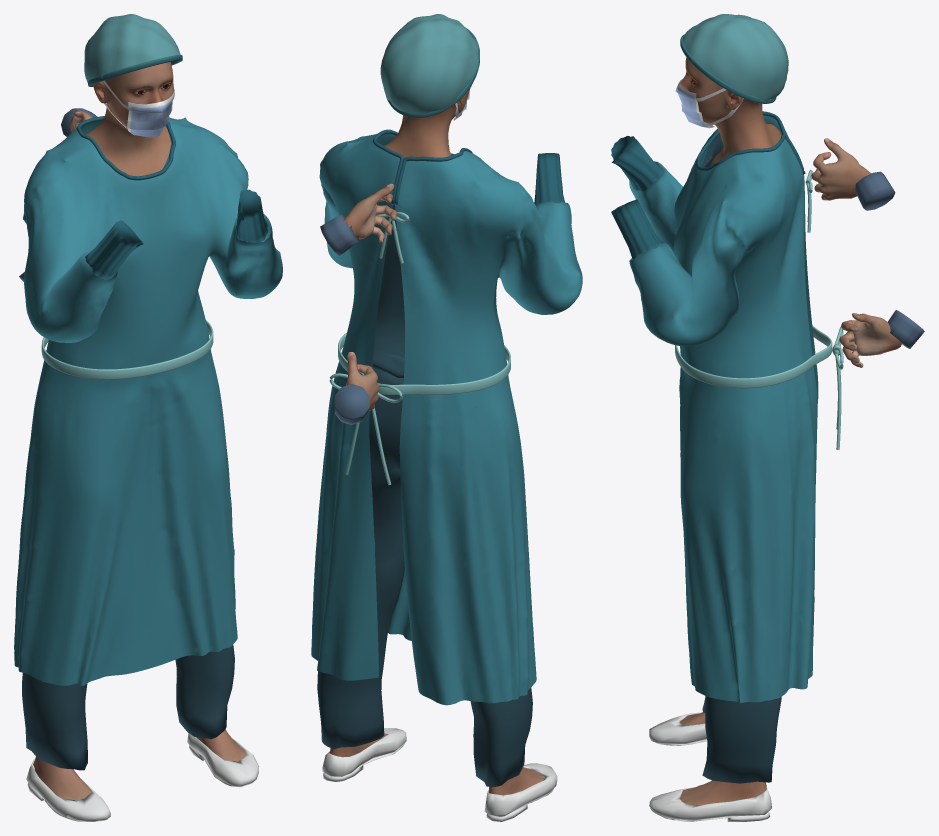
File: paso-4.glb
3 views of the same model, side by side, from view 1: azimuth 30°, elevation 25°; view 2: azimuth 150°, elevation 25°; view 3: azimuth 270°, elevation 25° (orthographic).
Visible parts, largest first — view 1: gown, Human.toigo_wool_pants-static, Human-static, surgical-cap, Human.toigo_flats-static, tie-waist-belt, cuff-R, Human.joepal_medical_mouth_protection-static, cuff-L, neck-binding, cap-elastic; view 2: gown, Human.toigo_wool_pants-static, surgical-cap, Human.toigo_flats-static, Human-static, Human.joepal_crude_t-shirt_female-static, circulator-hands, tie-waist-belt, cuff-R, circulator-cuff-R, circulator-cuff-L, neck-binding (+1 smaller); view 3: gown, surgical-cap, Human-static, Human.toigo_wool_pants-static, circulator-hands, Human.toigo_flats-static, tie-waist-belt, cuff-R, cuff-L, circulator-cuff-L, Human.joepal_medical_mouth_protection-static, neck-binding (+2 smaller).
Boxes of the visible parts, x1,y1,x2,y2 form: gown: (14, 117, 282, 685); Human.toigo_wool_pants-static: (22, 645, 234, 770); Human-static: (33, 62, 246, 800); surgical-cap: (84, 14, 180, 82); Human.toigo_flats-static: (26, 733, 259, 821); tie-waist-belt: (41, 320, 213, 379); cuff-R: (85, 220, 143, 280); Human.joepal_medical_mouth_protection-static: (103, 80, 174, 137); cuff-L: (236, 189, 268, 242); neck-binding: (76, 116, 175, 180); cap-elastic: (88, 54, 182, 86); gown: (311, 133, 582, 705); Human.toigo_wool_pants-static: (317, 349, 532, 786); surgical-cap: (380, 14, 478, 114); Human.toigo_flats-static: (322, 728, 557, 821); Human-static: (329, 87, 545, 795); Human.joepal_crude_t-shirt_female-static: (374, 205, 476, 407); circulator-hands: (343, 183, 397, 410); tie-waist-belt: (338, 333, 510, 394); cuff-R: (534, 153, 564, 204); circulator-cuff-R: (334, 384, 369, 424); circulator-cuff-L: (320, 214, 359, 255); neck-binding: (372, 129, 472, 205); gown: (629, 115, 818, 703); surgical-cap: (683, 14, 788, 101); Human-static: (679, 57, 781, 805); Human.toigo_wool_pants-static: (702, 696, 781, 783); circulator-hands: (811, 138, 901, 367); Human.toigo_flats-static: (649, 712, 771, 821); tie-waist-belt: (675, 325, 832, 388); cuff-R: (611, 136, 663, 191); cuff-L: (611, 199, 661, 259); circulator-cuff-L: (855, 171, 895, 210); Human.joepal_medical_mouth_protection-static: (675, 79, 743, 128); neck-binding: (696, 111, 805, 174).
Size of the model in its own units: 0.5631 by 1.7 by 0.6382.
18 materials, 9 textured.
